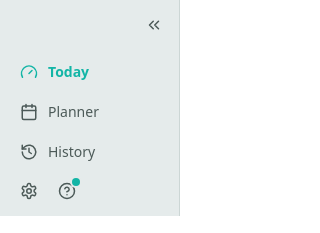
Test: Nav › a dot on the question mark and the version next to Check for updates say an update is out
Click the button named "Help and about": (67, 191) left=50, top=174, right=84, bottom=208
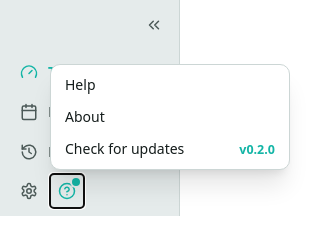
expect the menu item "Check for updates v0.2.0" is shown: met, box left=55, top=133, right=285, bottom=165
